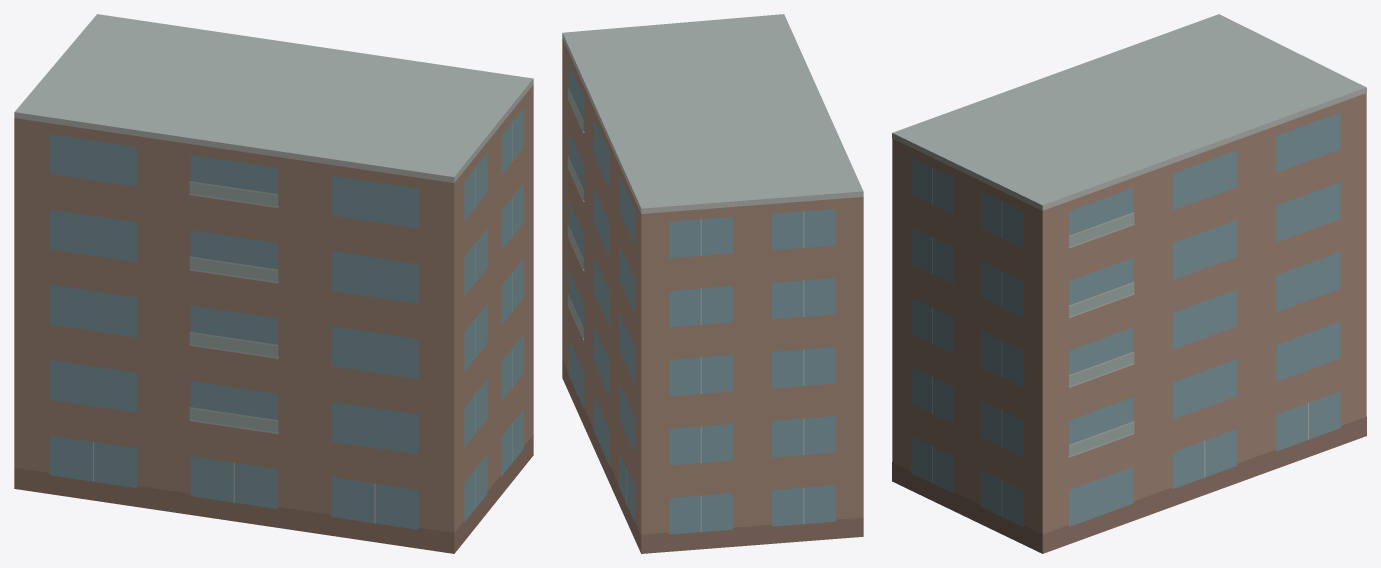
The model's file is survey-upis-32535137.glb.
3 views of the same model, side by side, from view 1: azimuth 30°, elevation 25°; view 2: azimuth 150°, elevation 25°; view 3: azimuth 270°, elevation 25° (orthographic). The views are drawn at different scales.
Parts seen in each view (by area): view 1: survey-upis-32535137.tmp; view 2: survey-upis-32535137.tmp; view 3: survey-upis-32535137.tmp.
Part boxes in pixels (x1=…): survey-upis-32535137.tmp: x1=14, y1=14, x2=533, y2=553; survey-upis-32535137.tmp: x1=562, y1=14, x2=863, y2=553; survey-upis-32535137.tmp: x1=892, y1=14, x2=1366, y2=553.
Bounding box in the file's own units: 18.38 × 15.6 × 19.26.
